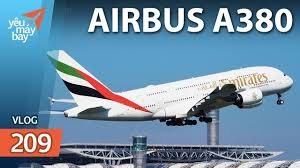maybay_dansu: (41, 45, 294, 127)
